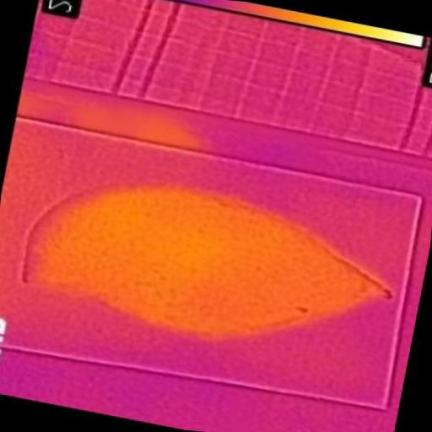mango: (26, 187, 391, 340)
